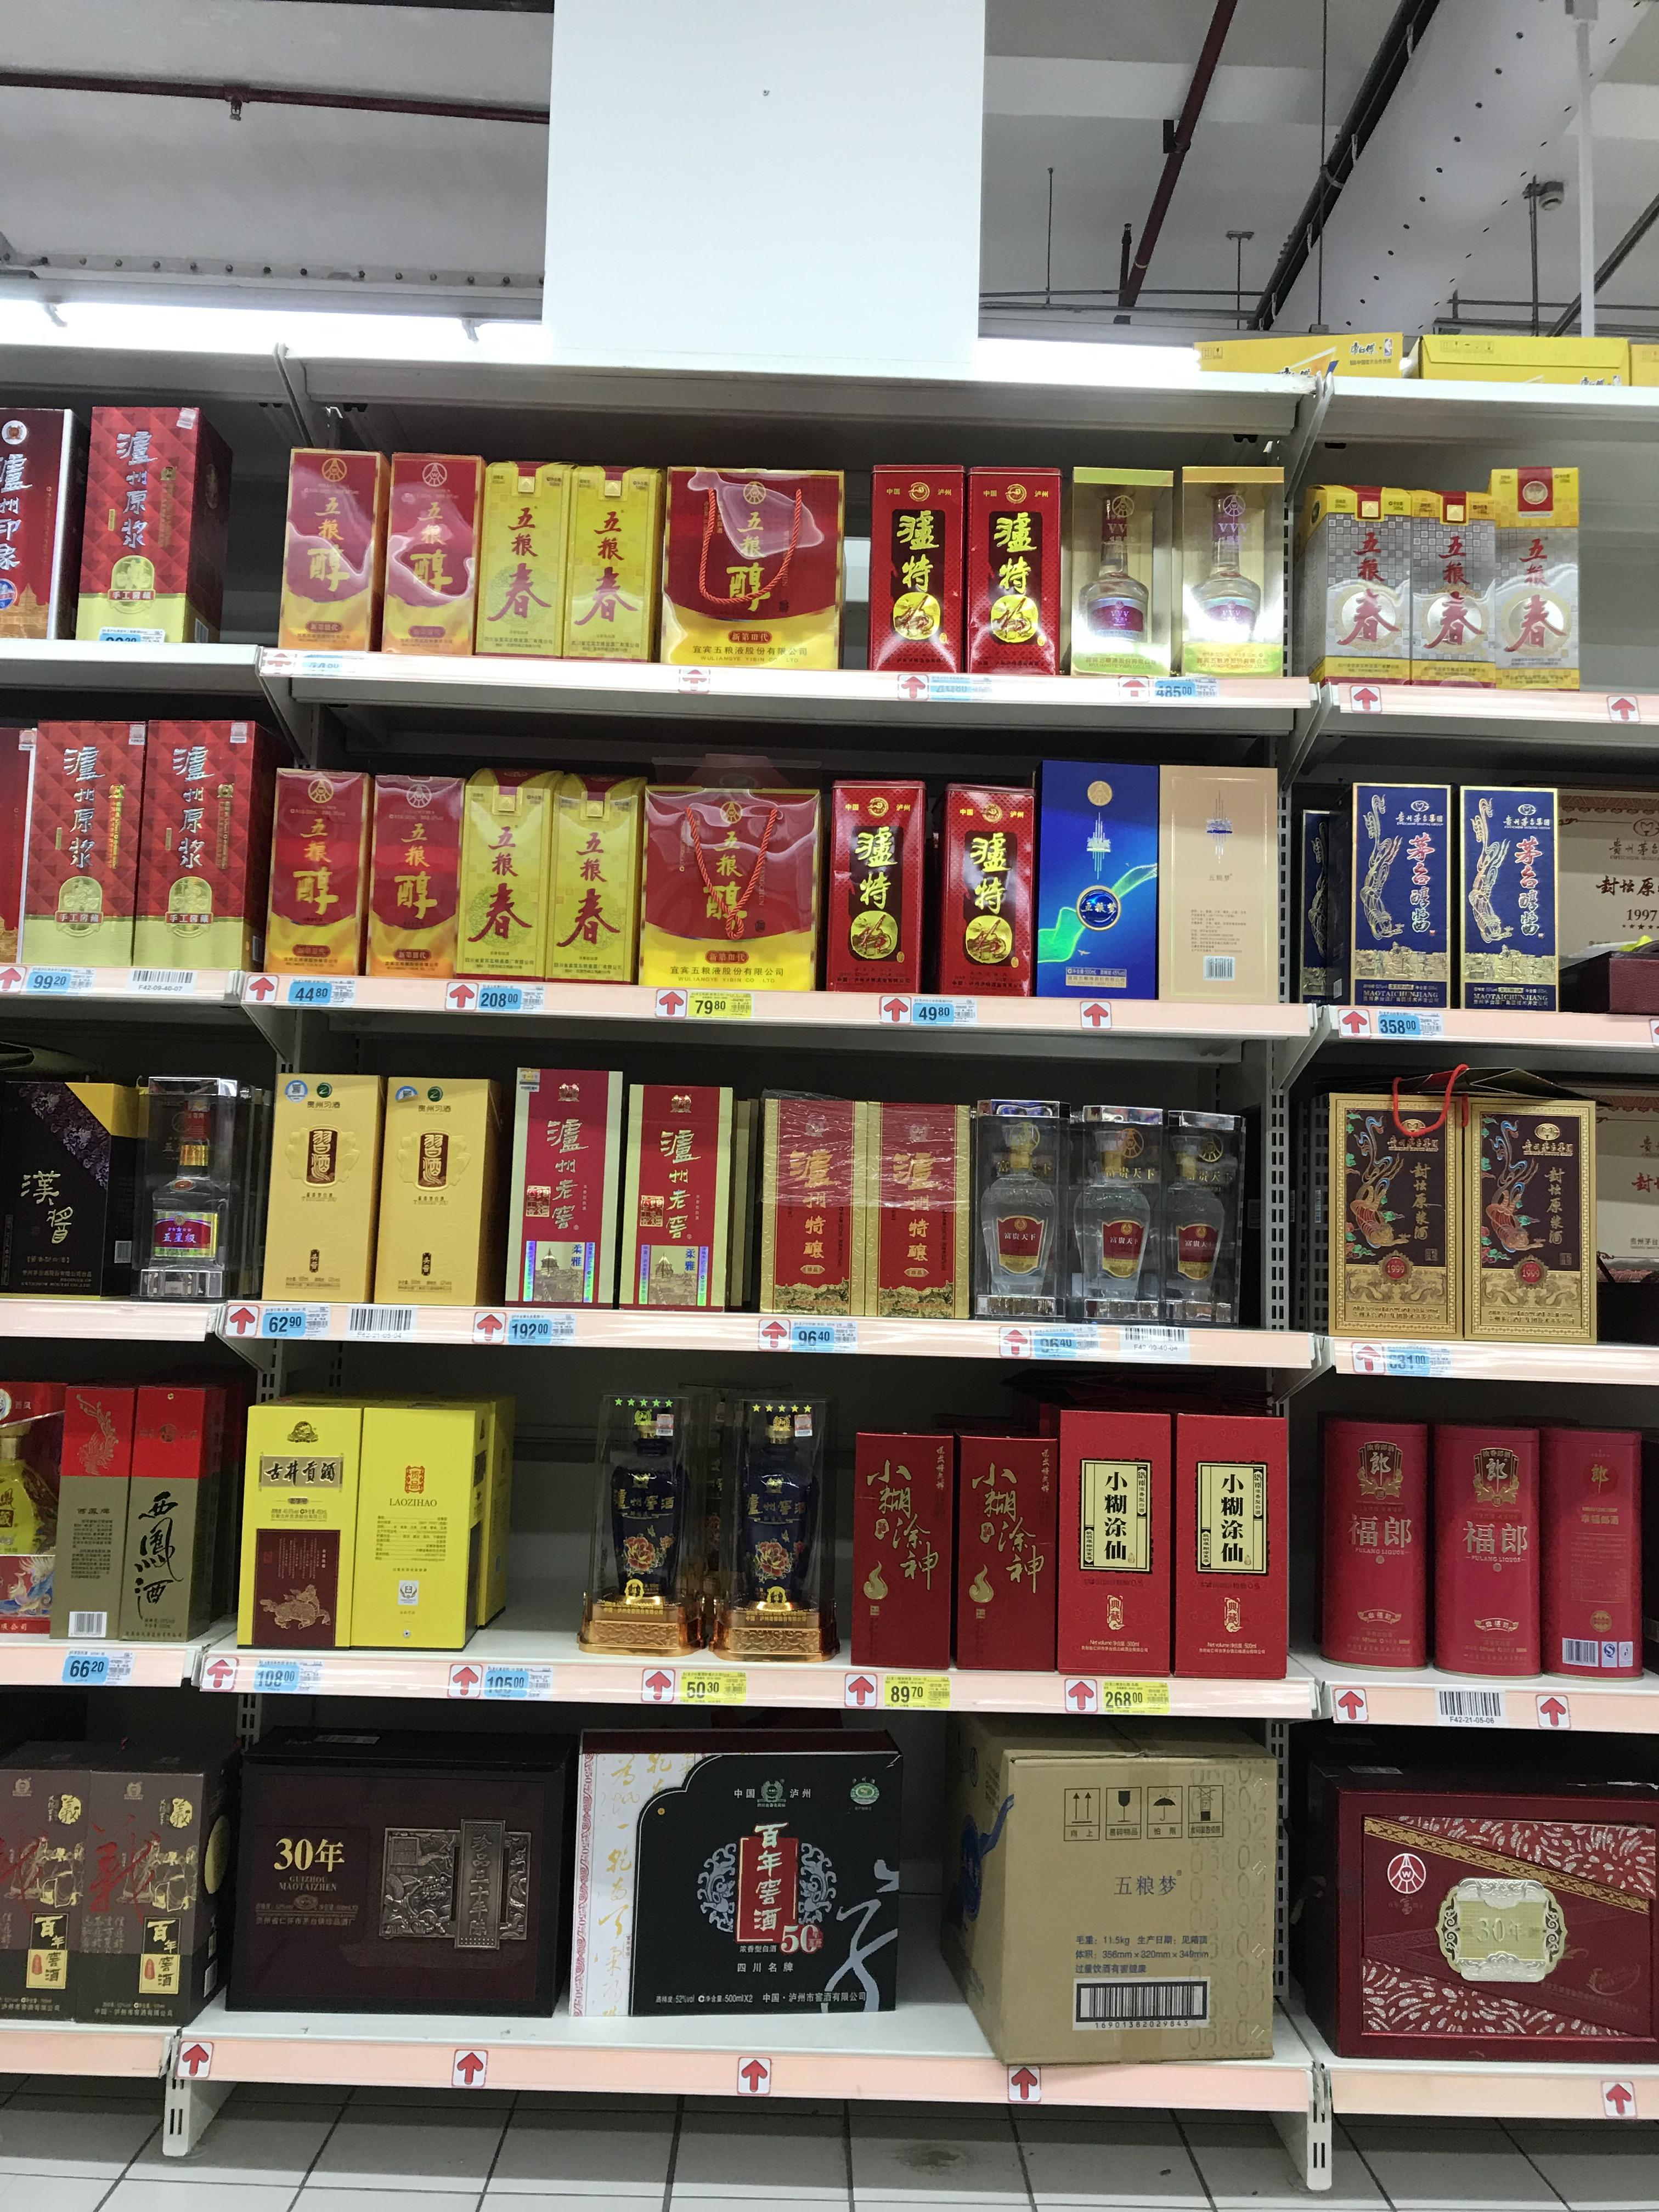bag: (1452, 1082, 1595, 1338), (727, 1404, 821, 1662)
bottle: (1333, 780, 1455, 1008), (2, 1073, 124, 1296), (596, 1399, 688, 1658), (1490, 470, 1567, 683), (1316, 486, 1394, 669), (1420, 482, 1485, 681), (1387, 489, 1441, 676)
box: (0, 1752, 204, 2033), (270, 1385, 460, 1662), (645, 765, 817, 988), (235, 1386, 376, 1653), (1312, 1082, 1452, 1338), (1051, 1395, 1171, 1674), (127, 1064, 261, 1308), (378, 1069, 516, 1306), (1166, 1402, 1286, 1672), (1032, 763, 1169, 998), (1154, 759, 1284, 1000), (132, 725, 258, 967), (261, 1061, 387, 1301), (385, 1383, 498, 1639), (511, 1066, 629, 1308), (1317, 1407, 1427, 1669), (1434, 1416, 1544, 1674), (1528, 1423, 1636, 1677), (84, 402, 200, 637), (24, 723, 138, 965), (113, 1386, 216, 1641), (627, 1080, 739, 1312), (1450, 780, 1554, 1014), (842, 1435, 950, 1660), (49, 1388, 145, 1635), (816, 779, 927, 989), (361, 772, 469, 981), (932, 780, 1039, 991), (261, 770, 368, 977), (958, 1428, 1047, 1669), (373, 458, 479, 657), (275, 451, 378, 653), (453, 772, 552, 981), (540, 775, 641, 979), (870, 1101, 964, 1315), (1073, 463, 1166, 679), (1180, 467, 1274, 674), (870, 465, 962, 676), (964, 465, 1056, 676), (566, 463, 664, 662), (476, 462, 572, 655), (0, 397, 75, 643), (1481, 463, 1582, 516)
jar: (972, 1099, 1060, 1318), (1065, 1108, 1157, 1313), (1152, 1111, 1239, 1317)
others: (958, 1730, 1288, 2078), (1305, 1777, 1657, 2081), (570, 1726, 890, 2034), (218, 1757, 580, 2022), (662, 460, 843, 667), (762, 1096, 868, 1312), (1551, 784, 1657, 979)
